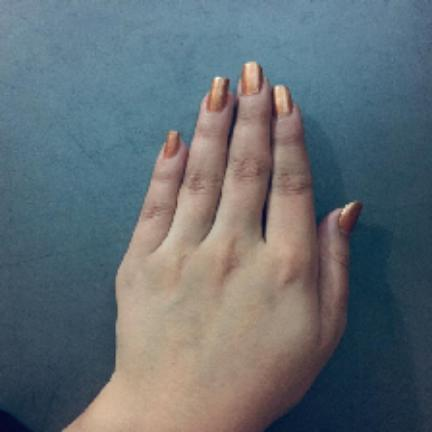Nail: (207, 77, 230, 111), (338, 202, 362, 234), (241, 62, 263, 95), (273, 85, 293, 116), (164, 131, 180, 158)
